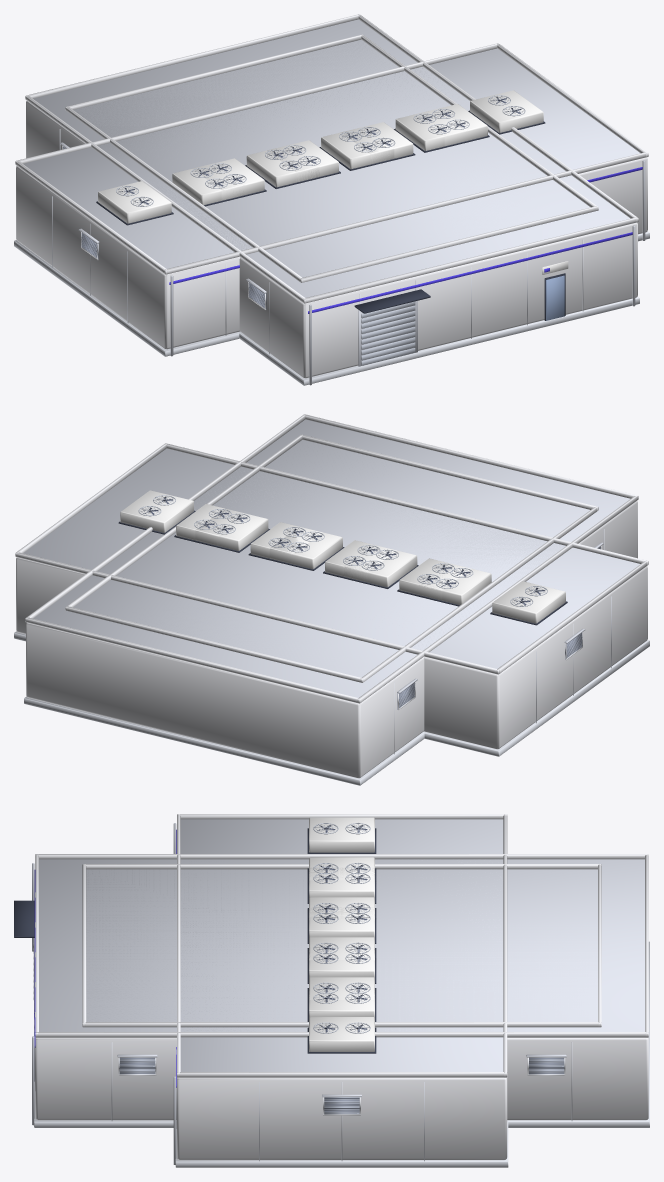
Rendered from campus.glb.
3 views of the same model, one above another, from view 1: azimuth 30°, elevation 25°; view 2: azimuth 150°, elevation 25°; view 3: azimuth 270°, elevation 25° (orthographic). The views are drawn at different scales.
Visible parts, largest first — view 1: hall_a, hall_b, hall_c; view 2: hall_a, hall_c, hall_b; view 3: hall_a, hall_c, hall_b.
Part boxes in pixels (left/top/right/bottom): hall_a: left=25, top=14, right=639, bottom=385; hall_b: left=65, top=34, right=598, bottom=282; hall_c: left=14, top=43, right=649, bottom=356; hall_a: left=24, top=414, right=638, bottom=785; hall_c: left=14, top=443, right=649, bottom=756; hall_b: left=65, top=434, right=598, bottom=682; hall_a: left=14, top=854, right=649, bottom=1127; hall_c: left=173, top=814, right=508, bottom=1167; hall_b: left=82, top=864, right=601, bottom=1027.
Bounding box in the file's own units: 26.28 × 4.88 × 26.95.
